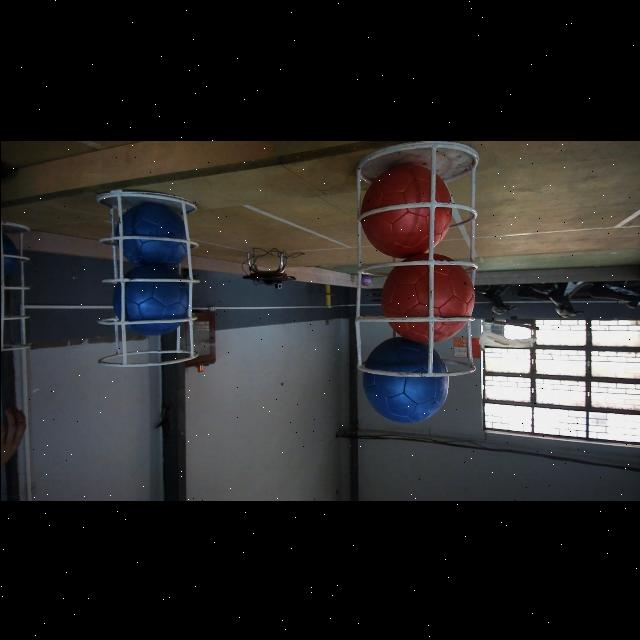B: (362, 336, 448, 422), (112, 262, 190, 334), (114, 200, 192, 266)
R: (360, 164, 452, 256), (382, 255, 474, 342)
